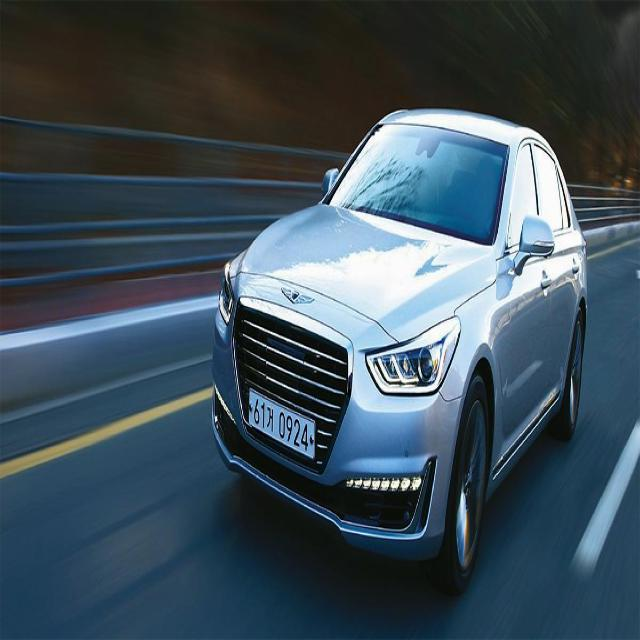car: (207, 91, 587, 574)
illegal_plate: (242, 386, 320, 466)
